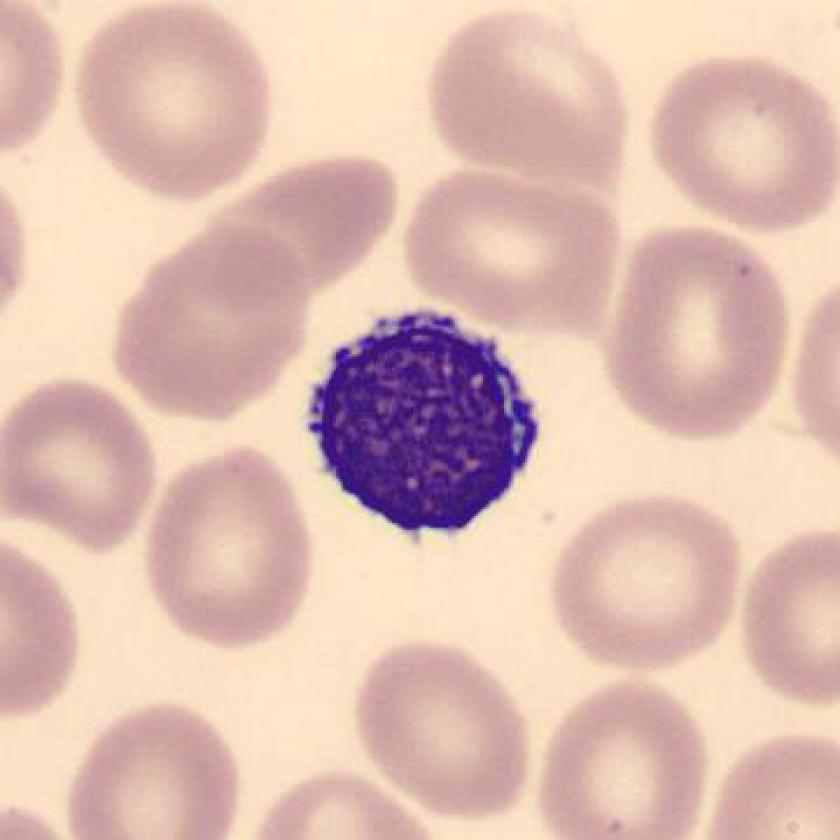lymphocyte: (295, 290, 552, 554)
